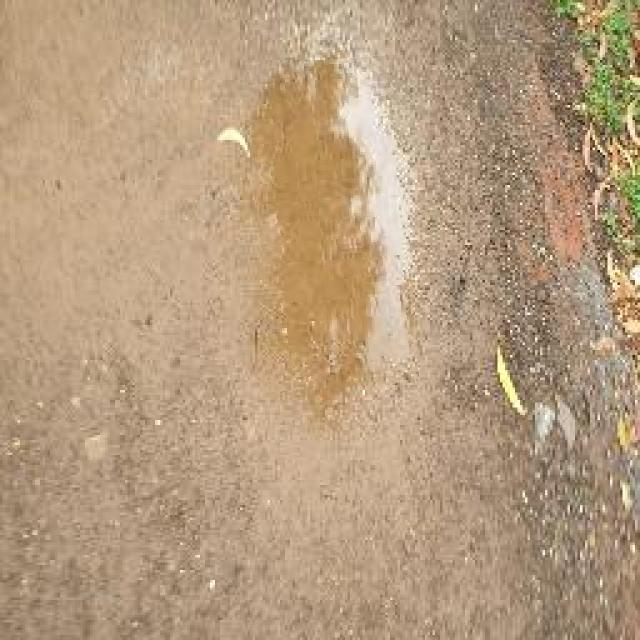puddle: (254, 59, 415, 391)
